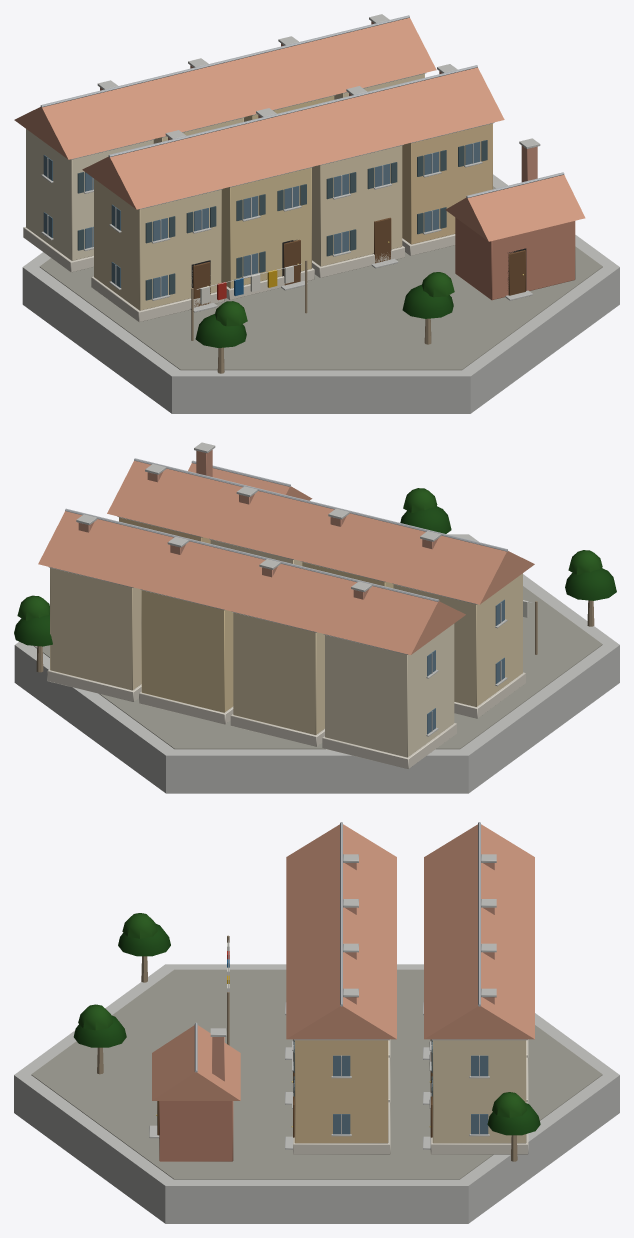
The model's file is workerHouse_med.glb.
3 views of the same model, one above another, from view 1: azimuth 30°, elevation 25°; view 2: azimuth 150°, elevation 25°; view 3: azimuth 270°, elevation 25° (orthographic).
Visible parts, largest first — view 1: roof_tile, plaster, wall_concrete, pavers, wood, brick, glass, stone, leaf, metal, paint; view 2: plaster, roof_tile, wall_concrete, pavers, stone, leaf, metal, brick, glass, wood; view 3: roof_tile, pavers, wall_concrete, plaster, brick, leaf, stone, glass, metal, wood.
Part boxes in pixels (x1,y1,x2,y2): roof_tile: [14, 17, 585, 241]; plaster: [26, 73, 492, 310]; wall_concrete: [22, 14, 619, 413]; pavers: [39, 186, 602, 370]; wood: [77, 140, 525, 373]; brick: [100, 21, 575, 300]; glass: [43, 141, 480, 298]; stone: [23, 227, 455, 322]; leaf: [195, 272, 454, 347]; metal: [40, 15, 564, 198]; paint: [197, 263, 301, 304]; plaster: [50, 517, 522, 757]; roof_tile: [38, 460, 534, 654]; wall_concrete: [14, 442, 619, 793]; pavers: [33, 586, 602, 749]; stone: [47, 669, 525, 768]; leaf: [14, 488, 616, 646]; metal: [65, 458, 507, 601]; brick: [78, 450, 438, 599]; glass: [427, 599, 504, 734]; wood: [36, 600, 594, 672]; roof_tile: [152, 824, 534, 1100]; pavers: [31, 969, 602, 1179]; wall_concrete: [14, 854, 619, 1223]; plaster: [294, 1040, 526, 1143]; brick: [159, 863, 494, 1161]; leaf: [73, 913, 540, 1135]; stone: [293, 1039, 528, 1154]; glass: [294, 1042, 488, 1134]; metal: [194, 822, 480, 1072]; wood: [97, 935, 517, 1161].
Size of the model in its own units: 21.3 by 8.6 by 24.6.
